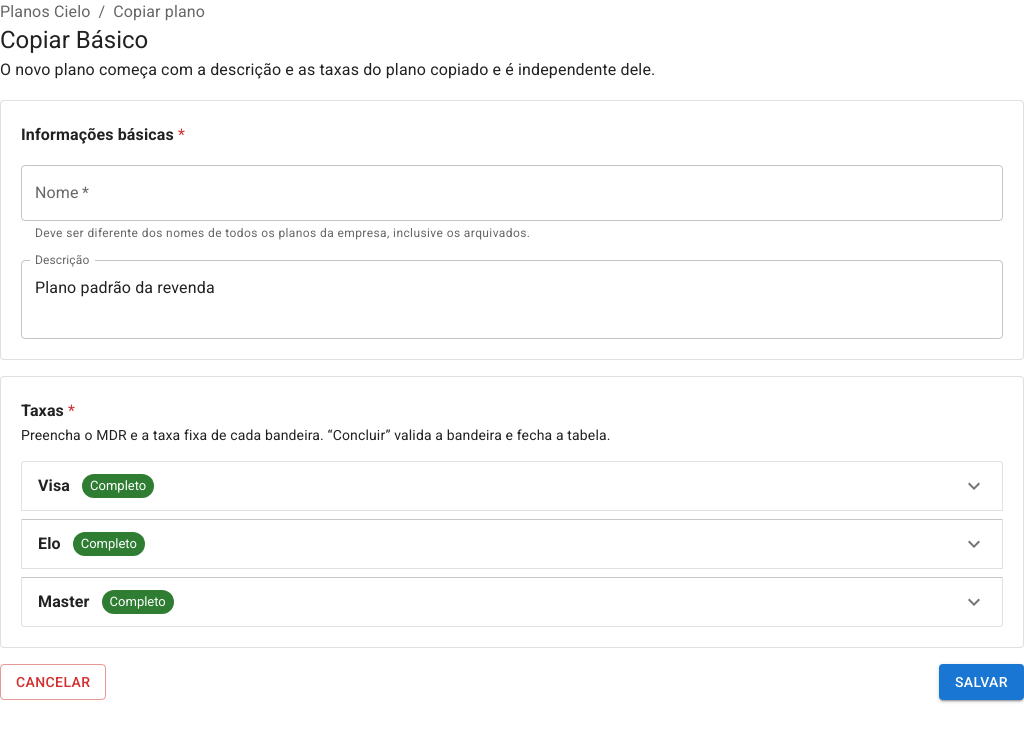
Scenario: NewCieloPlanPage › stays on the form and maps backend field errors when saving fails
Step 1. Type "Básico" into the field labelled "Nome" → (512, 193), box [21, 165, 1003, 221]
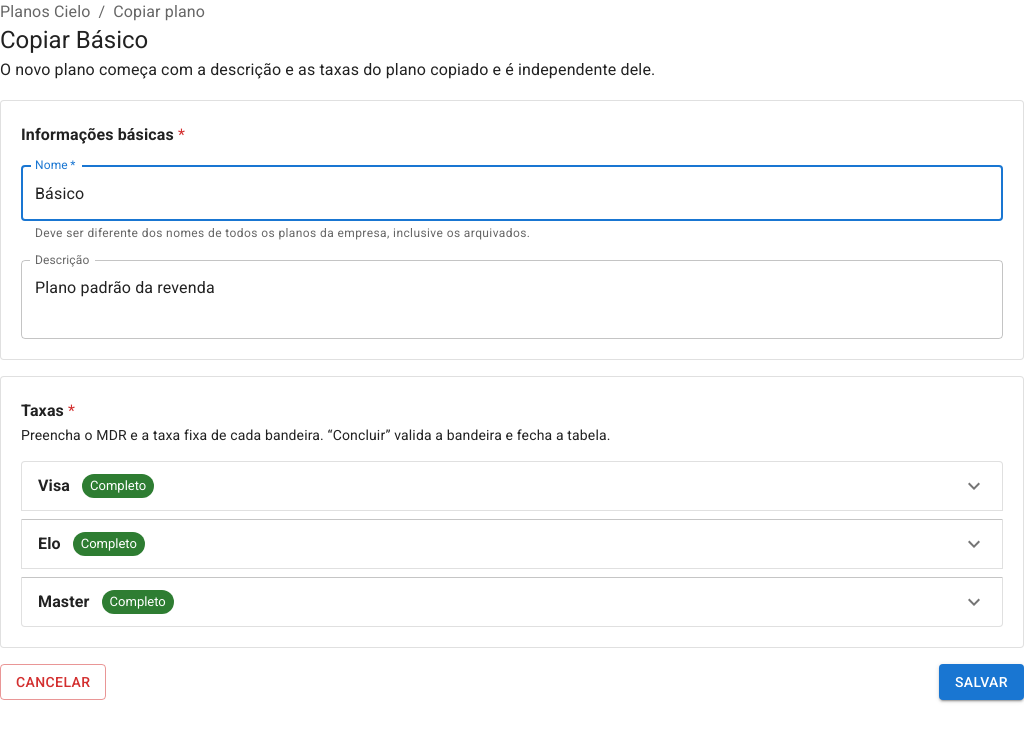
Step 2. Click the button "Salvar" → click(981, 682), box [939, 664, 1023, 700]
(page scrolled)
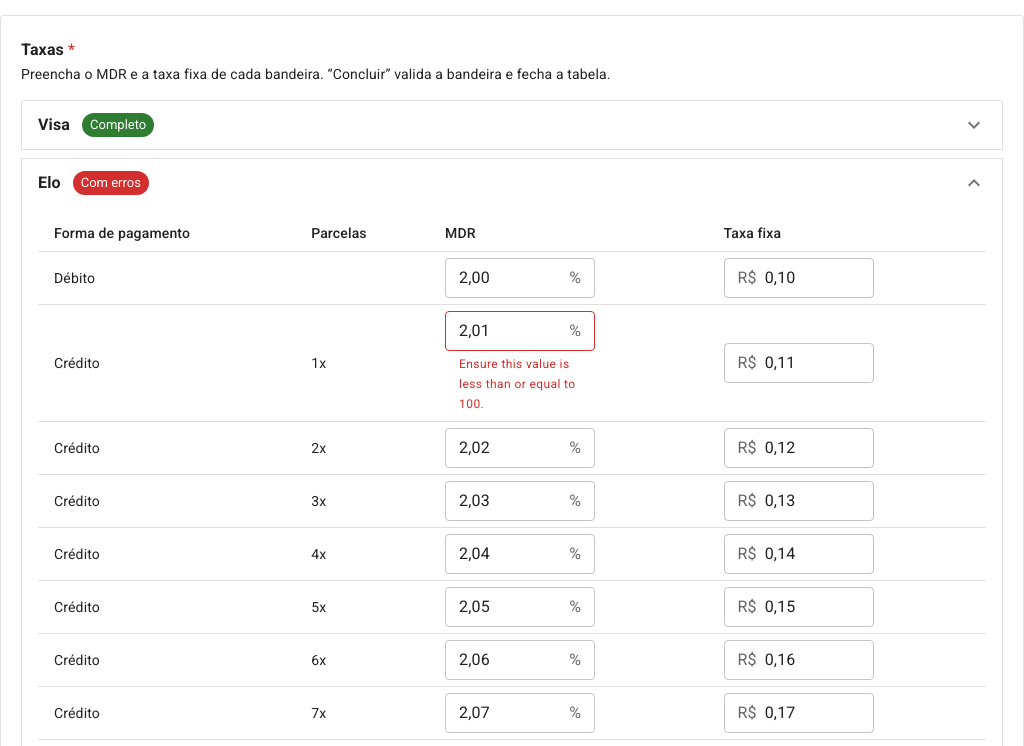
Check: the text "Ensure this value is less than or equal to 100." is shown, box [459, 355, 581, 415]
